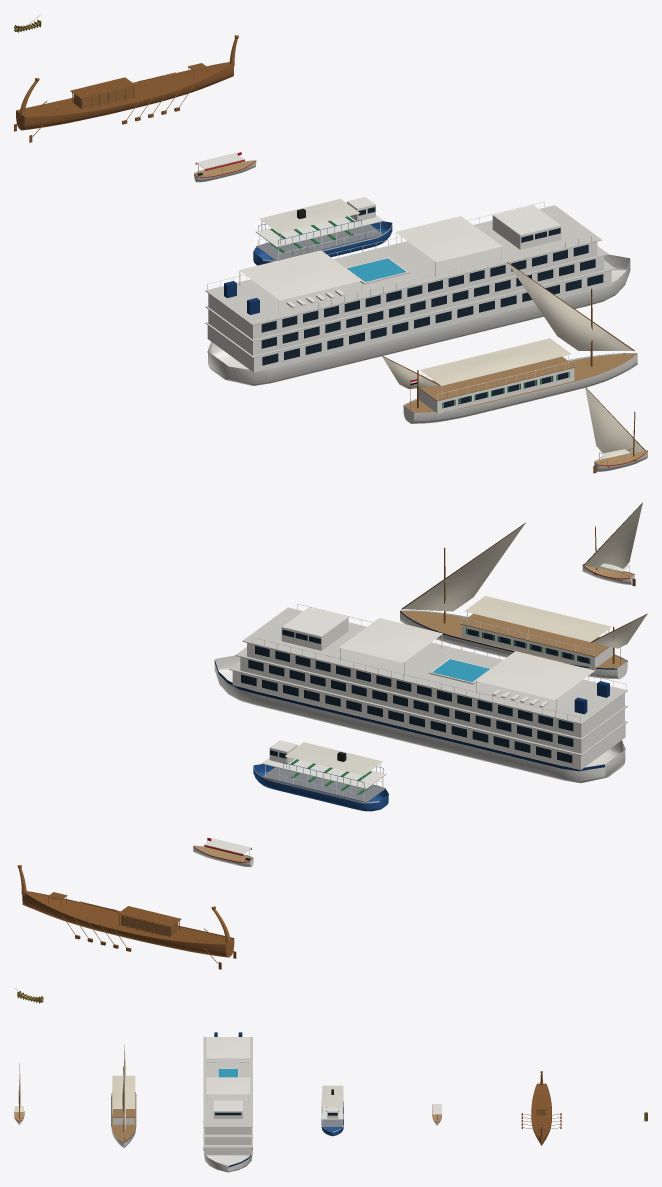
Rendered from boats.glb.
The picture shows the model from 3 angles, top to bottom: view 1: azimuth 30°, elevation 25°; view 2: azimuth 150°, elevation 25°; view 3: azimuth 270°, elevation 25°; orthographic projection. The views are drawn at different scales.
Parts seen in each view (by area): view 1: cruiser, dahabiya, khufu, ferry, felucca, launch; view 2: cruiser, dahabiya, ferry, khufu, felucca, launch; view 3: cruiser, dahabiya, khufu, ferry, felucca.
Boxes of the visible parts, left/top/right/bottom form: cruiser: left=205, top=201, right=630, bottom=385; dahabiya: left=381, top=262, right=637, bottom=423; khufu: left=14, top=35, right=238, bottom=142; ferry: left=253, top=197, right=392, bottom=265; felucca: left=585, top=386, right=647, bottom=473; launch: left=194, top=152, right=256, bottom=182; cruiser: left=214, top=604, right=627, bottom=783; dahabiya: left=400, top=522, right=647, bottom=679; ferry: left=253, top=740, right=388, bottom=811; khufu: left=17, top=865, right=236, bottom=969; felucca: left=582, top=502, right=642, bottom=586; launch: left=193, top=837, right=253, bottom=867; cruiser: left=203, top=1032, right=252, bottom=1172; dahabiya: left=111, top=1044, right=136, bottom=1148; khufu: left=521, top=1071, right=561, bottom=1145; ferry: left=321, top=1085, right=343, bottom=1136; felucca: left=14, top=1063, right=24, bottom=1124.
Size of the model in its own units: 72 by 23.88 by 182.
